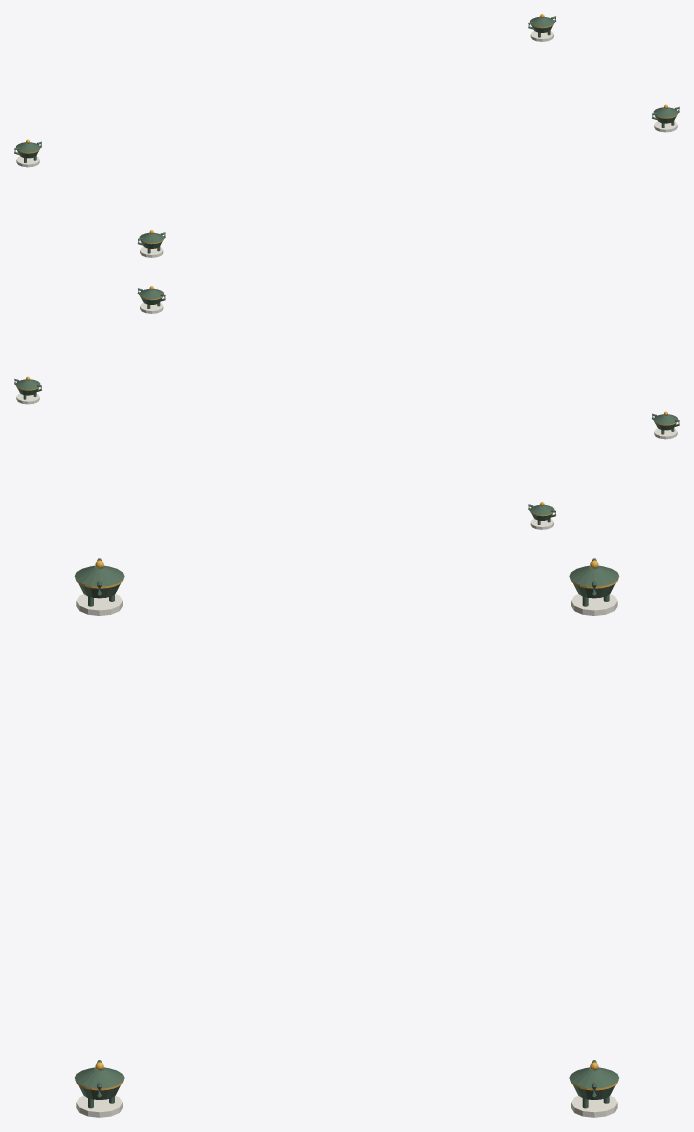
File: SM_14_Incense_Burners.fbx
3 views of the same model, one above another, from view 1: azimuth 30°, elevation 25°; view 2: azimuth 150°, elevation 25°; view 3: azimuth 270°, elevation 25° (orthographic). The views are drawn at different scales.
Parts seen in each view (by area): view 1: Incense_Burners; view 2: Incense_Burners; view 3: Incense_Burners.
Part boxes in pixels (left/top/right/bottom): Incense_Burners: left=14, top=14, right=679, bottom=257; Incense_Burners: left=14, top=286, right=679, bottom=529; Incense_Burners: left=74, top=558, right=619, bottom=1117.
Size of the model in its own units: 5060 by 2202 by 203.
